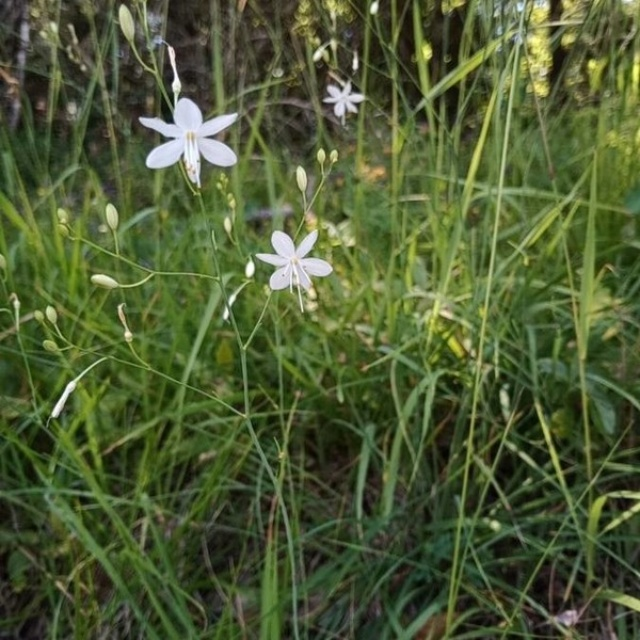obstacle: (113, 57, 345, 508)
